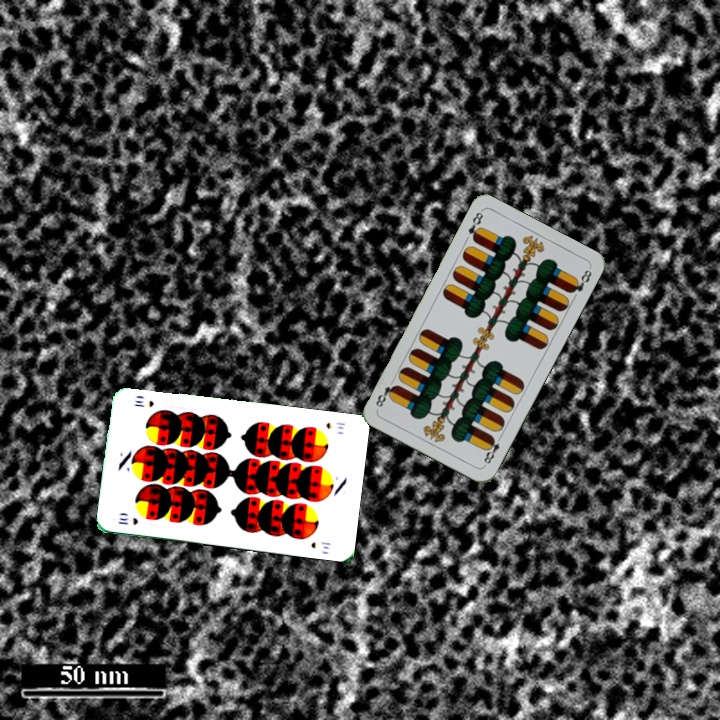E8: (480, 431, 505, 468), (464, 207, 486, 244)
S10: (114, 513, 141, 527), (322, 418, 348, 432)
